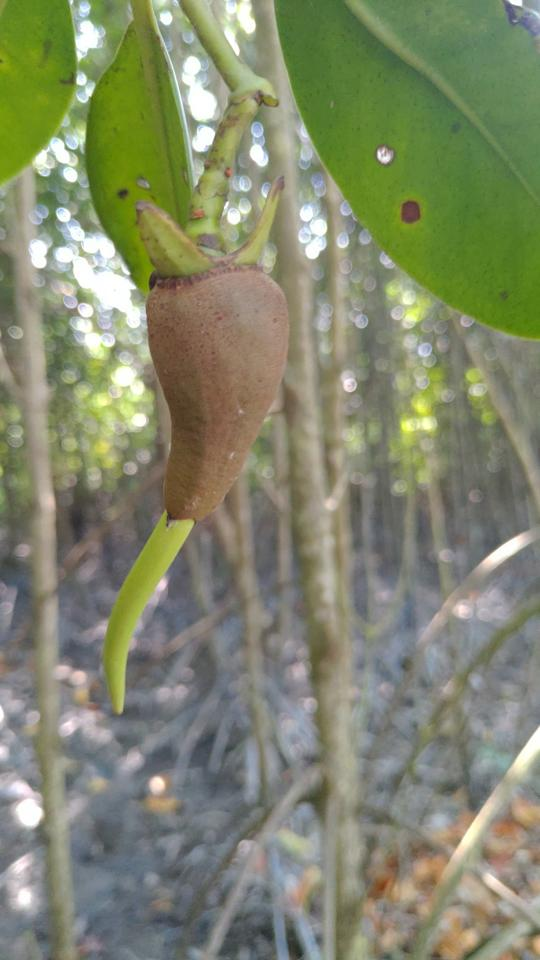mentah: (79, 226, 313, 743)
